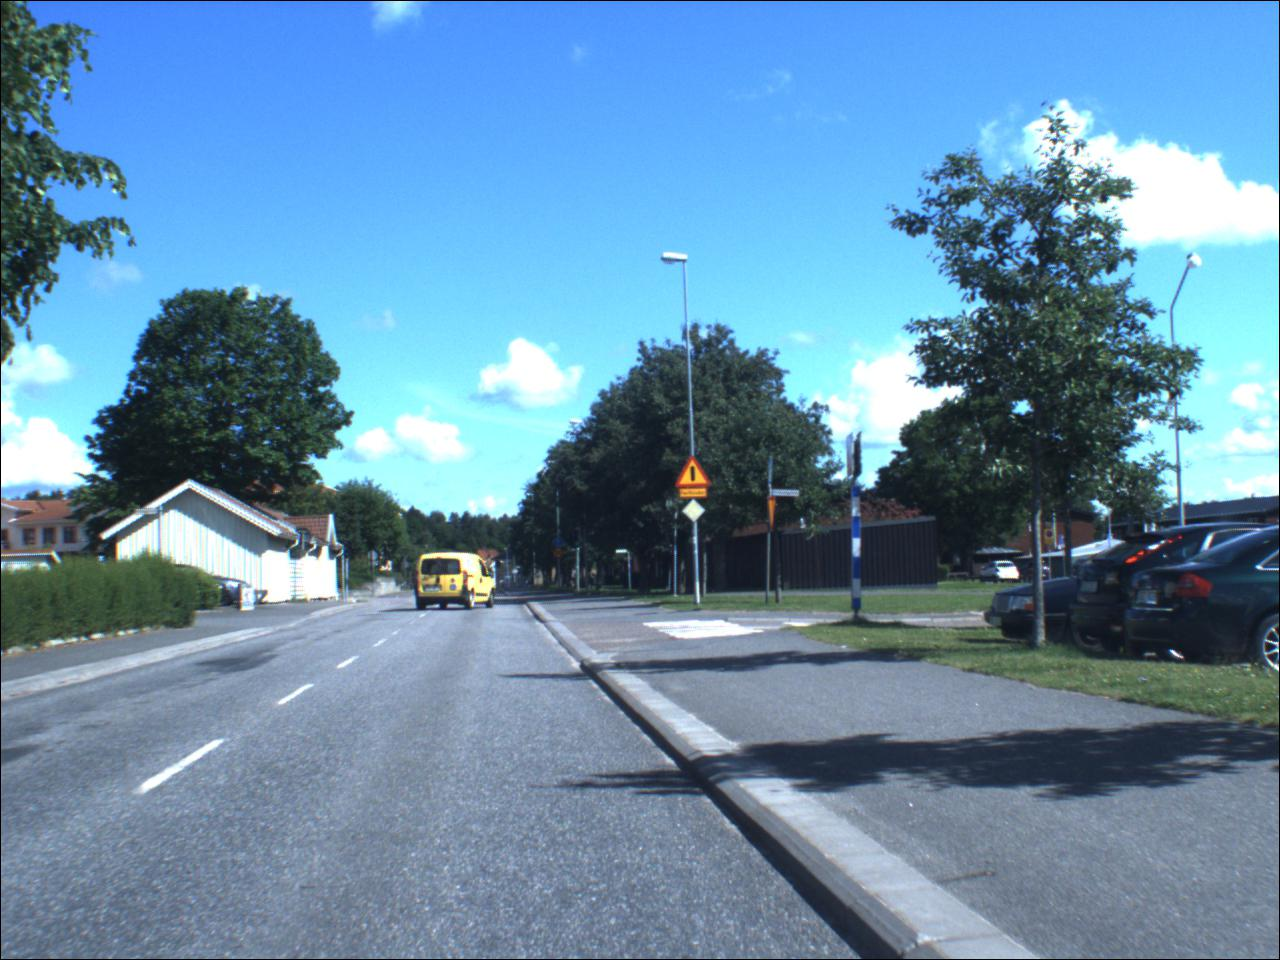50_SIGN: (555, 549, 566, 560)
GIVE_WAY: (768, 498, 779, 533)
PEDESTRIAN_CROSSING: (848, 435, 856, 475), (770, 458, 775, 484)
PRIORITY_ROAD: (683, 502, 709, 526)
WARNING_DANGER: (678, 458, 712, 491)
